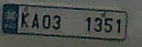0: (40, 13, 52, 30)
1: (114, 17, 124, 36), (84, 16, 92, 33)
3: (93, 17, 103, 34), (51, 15, 62, 30)
5: (102, 17, 115, 34)
A: (31, 13, 40, 29)
K: (19, 11, 30, 29)
